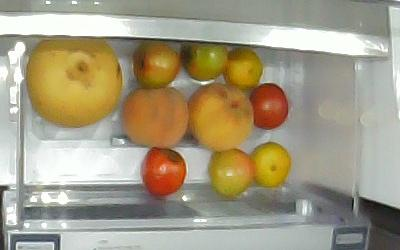peach: (186, 84, 252, 150), (121, 87, 187, 147)
pear: (27, 37, 124, 127)
tangerine: (250, 142, 289, 186), (223, 47, 263, 89)
tomato: (132, 40, 180, 89), (141, 148, 186, 196), (209, 148, 253, 197), (180, 42, 228, 82), (251, 83, 289, 129)
